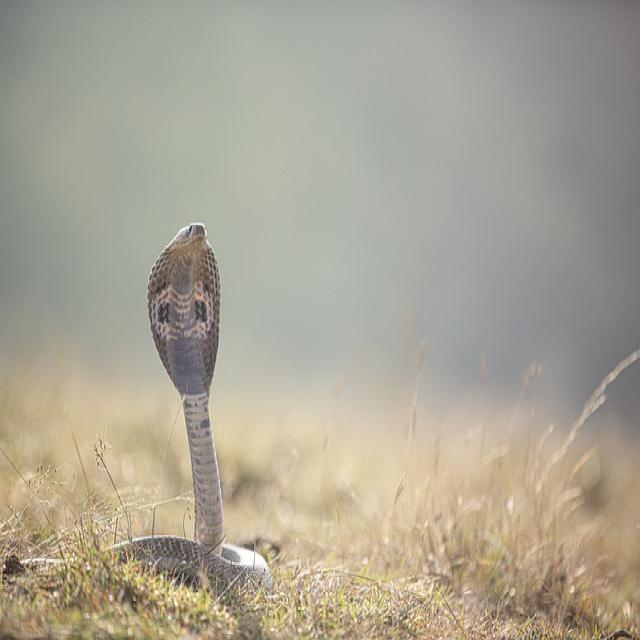Carnivorous: (112, 223, 273, 592)
